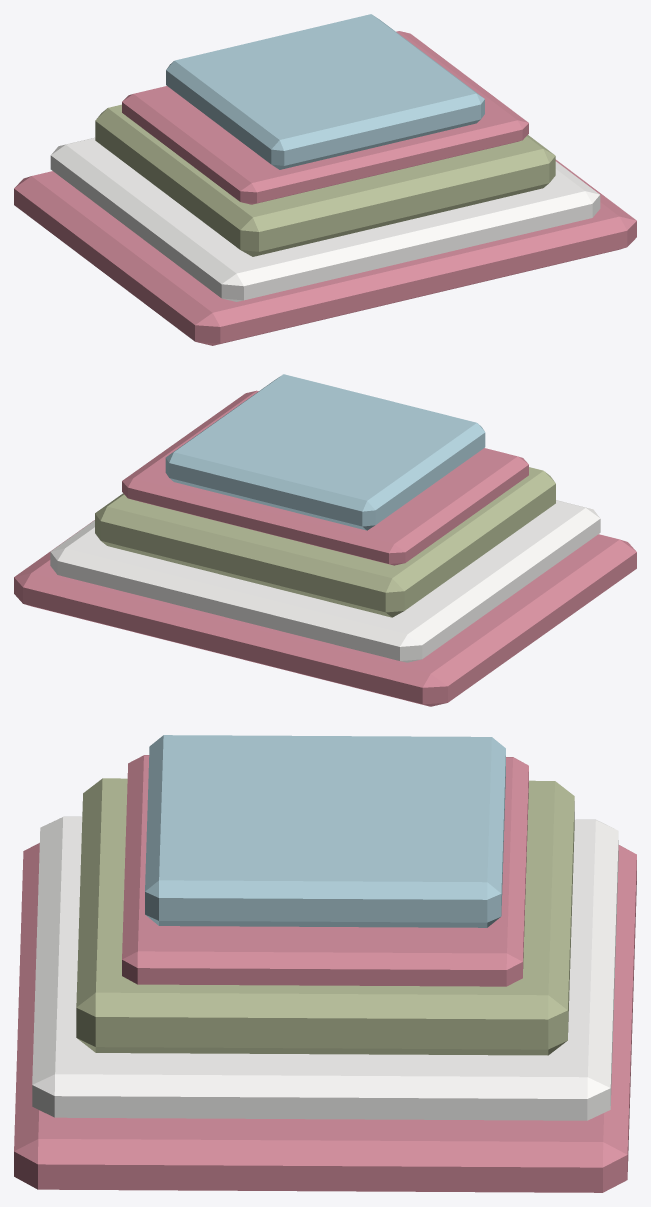
File: Towels_1.fbx
The picture shows the model from 3 angles, top to bottom: view 1: azimuth 30°, elevation 25°; view 2: azimuth 150°, elevation 25°; view 3: azimuth 270°, elevation 25°; orthographic projection. The views are drawn at different scales.
Parts seen in each view (by area): view 1: Towels_1; view 2: Towels_1; view 3: Towels_1.
Part boxes in pixels (x1,y1,x2,y2): Towels_1: (14,14,636,345); Towels_1: (14,374,636,706); Towels_1: (14,735,636,1192).
Bounding box in the file's own units: 55.23 × 44.17 × 18.17.
